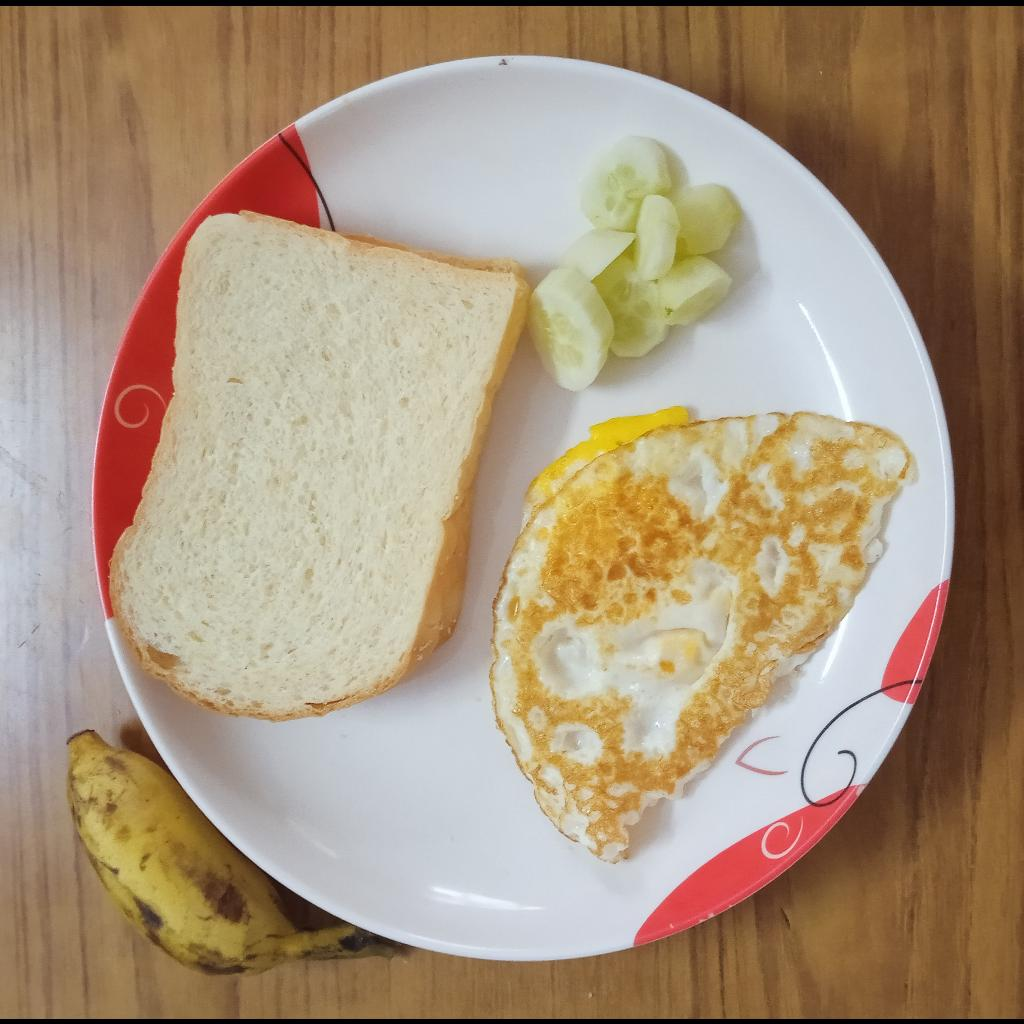banana: (62, 724, 390, 976)
bread: (106, 208, 536, 724)
cucumber: (526, 136, 740, 389)
egg-poached: (483, 406, 913, 862)
